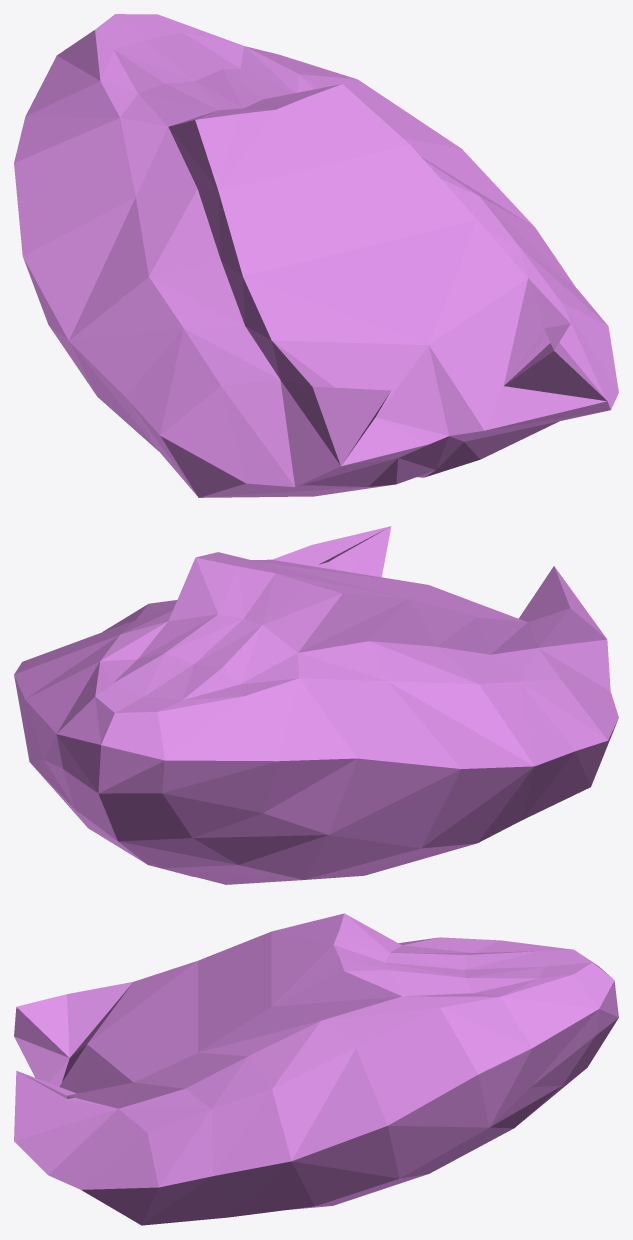
File: salivary gland.gltf
3 views of the same model, one above another, from view 1: azimuth 30°, elevation 25°; view 2: azimuth 150°, elevation 25°; view 3: azimuth 270°, elevation 25° (orthographic). The views are drawn at different scales.
Visible parts, largest first — view 1: node_id30; view 2: node_id30; view 3: node_id30.
Part boxes in pixels (x1,y1,x2,y2): node_id30: (14, 14, 618, 497); node_id30: (14, 526, 618, 884); node_id30: (14, 913, 618, 1225).
Bounding box in the file's own units: 0.0829 × 0.0515 × 0.1157.
